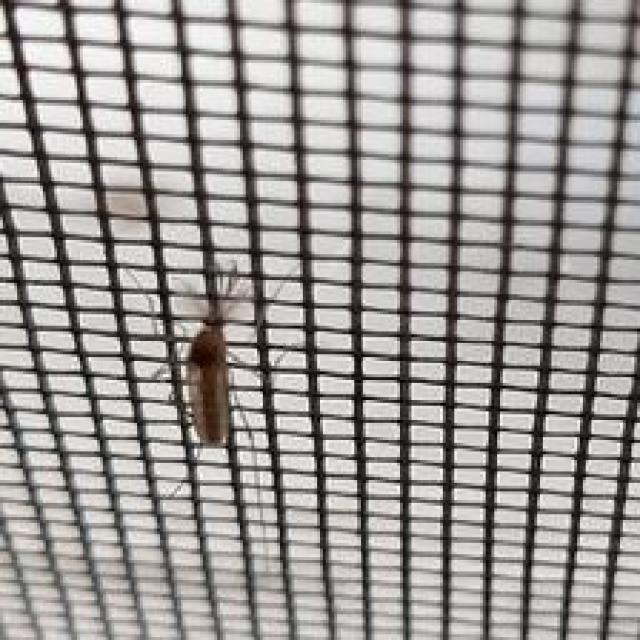Culex: (129, 260, 294, 451)
